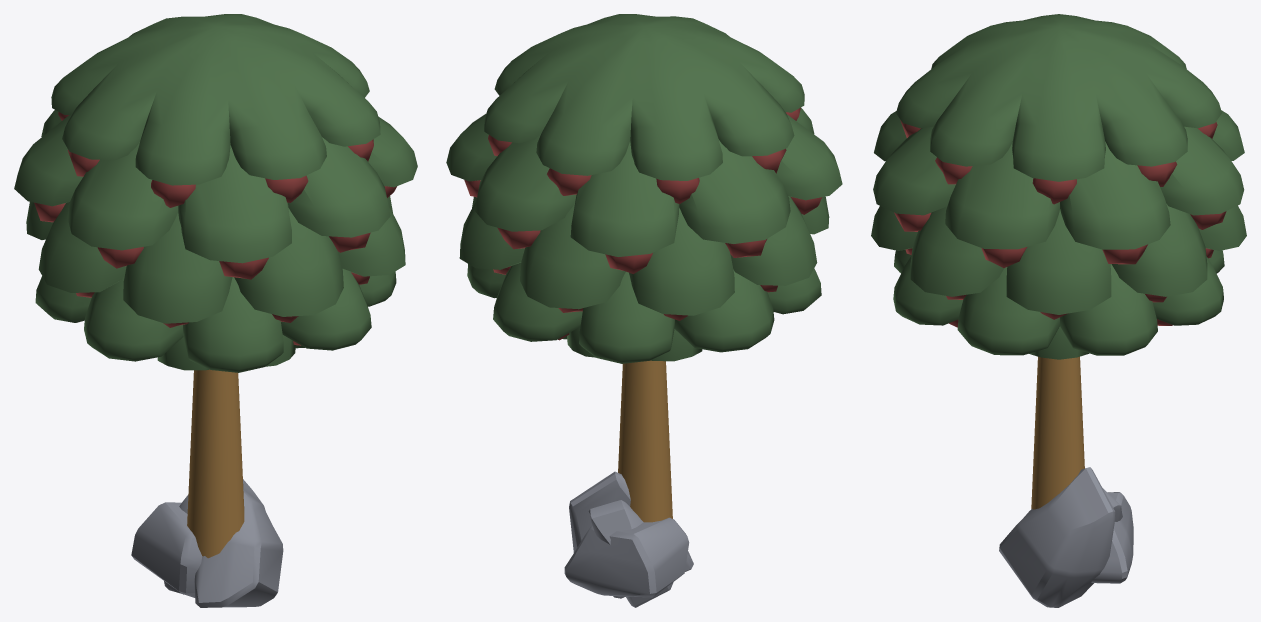
File: tree2.glb
3 views of the same model, side by side, from view 1: azimuth 30°, elevation 25°; view 2: azimuth 150°, elevation 25°; view 3: azimuth 270°, elevation 25° (orthographic). The views are drawn at different scales.
Parts seen in each view (by area): view 1: Tree_Fruit, Rock_2, Rock_1; view 2: Tree_Fruit, Rock_1, Rock_2; view 3: Tree_Fruit, Rock_2, Rock_1.
Boxes of the visible parts, <box> form: Tree_Fruit: <box>14,14,417,558</box>; Rock_2: <box>164,479,283,607</box>; Rock_1: <box>131,502,202,594</box>; Tree_Fruit: <box>446,14,842,522</box>; Rock_1: <box>564,517,689,597</box>; Rock_2: <box>569,471,693,607</box>; Tree_Fruit: <box>871,14,1246,509</box>; Rock_2: <box>999,467,1122,607</box>; Rock_1: <box>1091,492,1133,583</box>.
Bounding box in the file's own units: 5.53 × 9.19 × 5.55.
